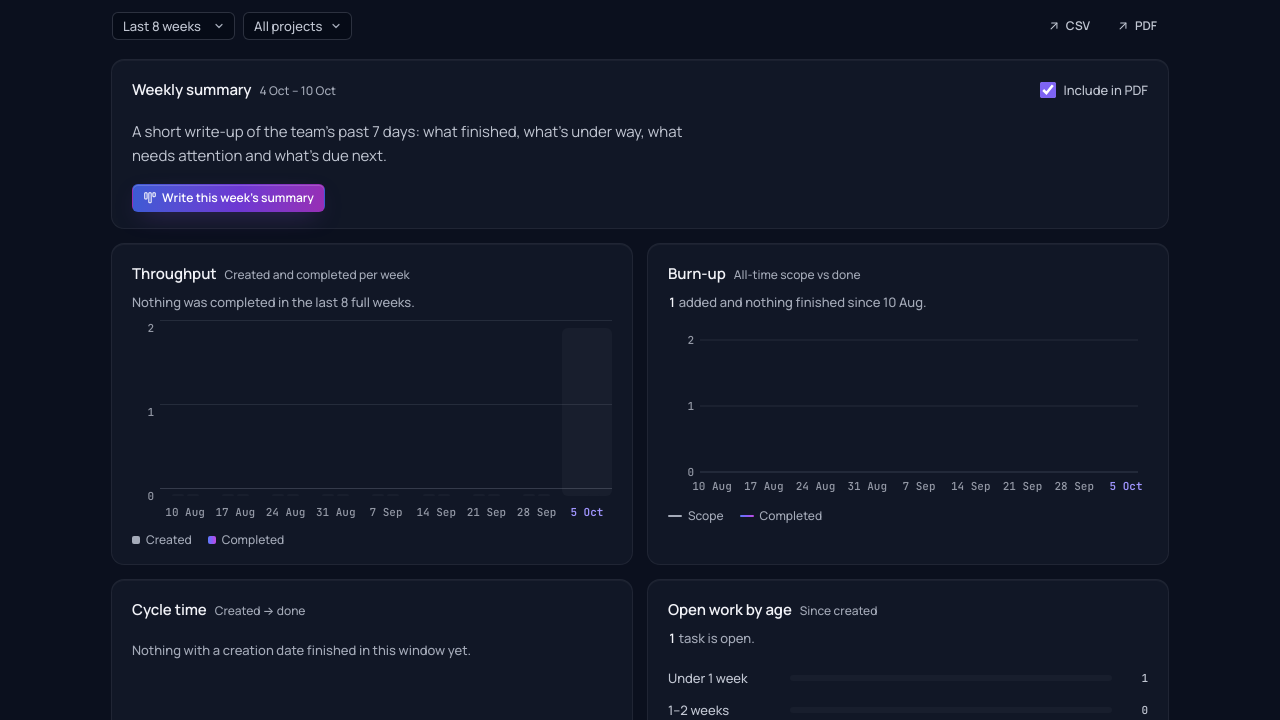
ReportsView › falls back to the on-device summary, with a note, when Kanbo can't write it
Click the button "Write this week's summary" at (228, 198), box [132,184,325,212]
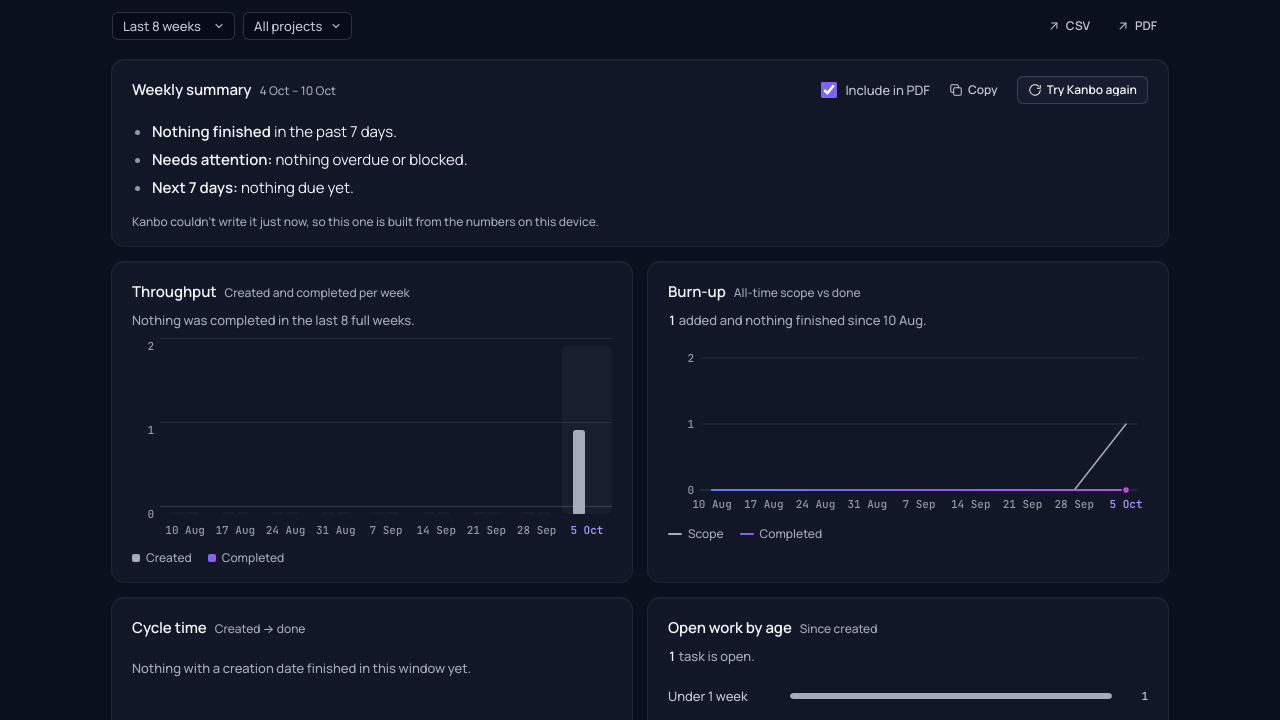
Expected: the text "Kanbo couldn't write it just now" is shown, [132,213,599,230]
Expected: the text "Nothing finished" is shown, [152,121,271,142]
Expected: the button "Try Kanbo again" is shown, [1017,76,1148,104]
